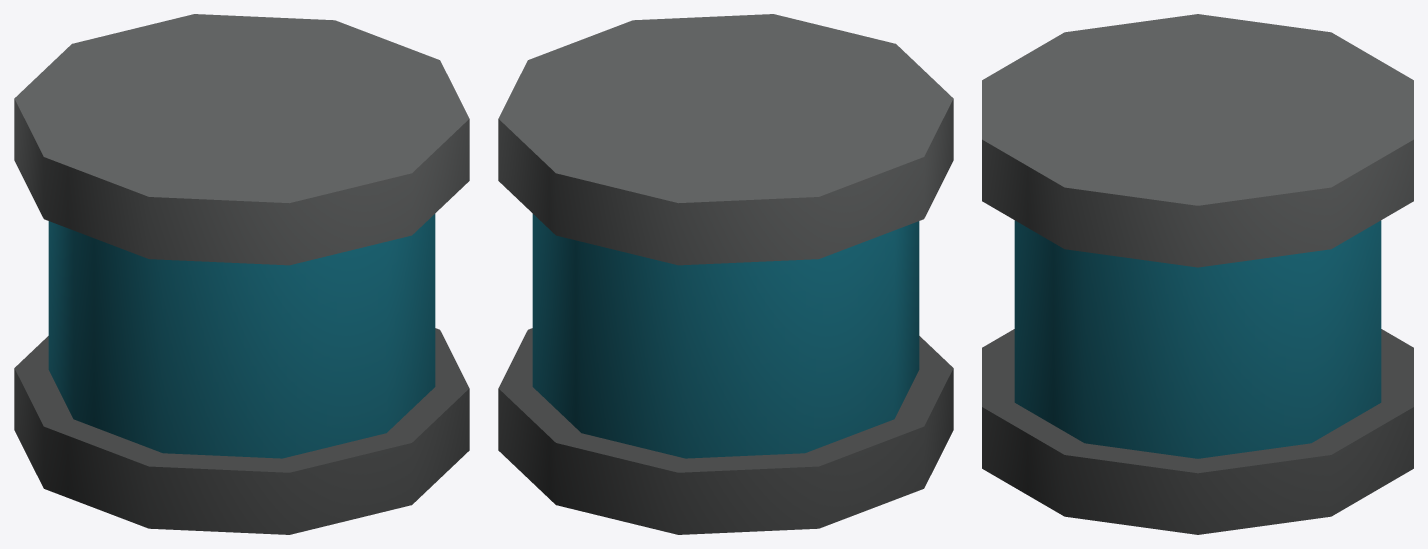
File: fusion-power-cell.glb
3 renders of one model, left to right at view 1: azimuth 30°, elevation 25°; view 2: azimuth 150°, elevation 25°; view 3: azimuth 270°, elevation 25°, orthographic.
Visible parts, largest first — view 1: fusion-power-cell; view 2: fusion-power-cell; view 3: fusion-power-cell.
Part boxes in pixels (x1,y1,x2,y2): fusion-power-cell: (14, 14, 469, 534); fusion-power-cell: (498, 14, 953, 534); fusion-power-cell: (982, 14, 1413, 534).
Bounding box in the file's own units: 0.2 × 0.16 × 0.1902.
